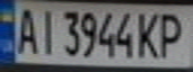3: (57, 6, 81, 57)
4: (115, 8, 139, 59), (97, 8, 118, 59)
9: (78, 7, 100, 57)
A: (12, 3, 39, 55)
I: (33, 4, 57, 56)
K: (133, 8, 163, 60)
P: (154, 9, 190, 58)
